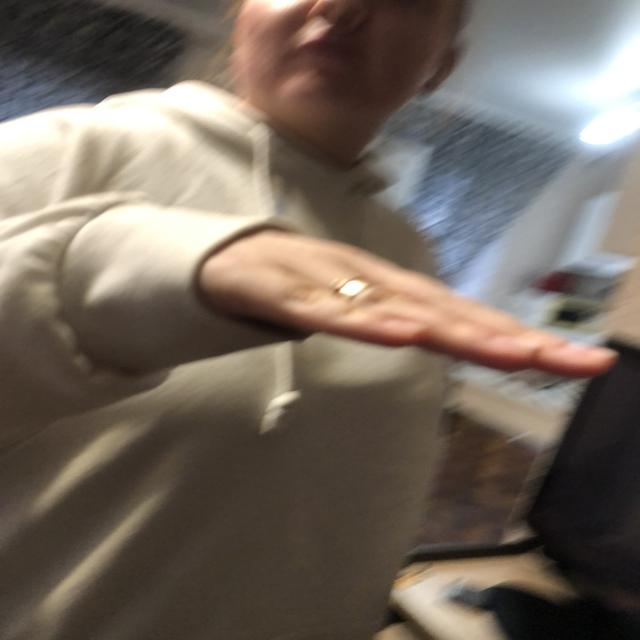paper: (213, 234, 616, 383)
